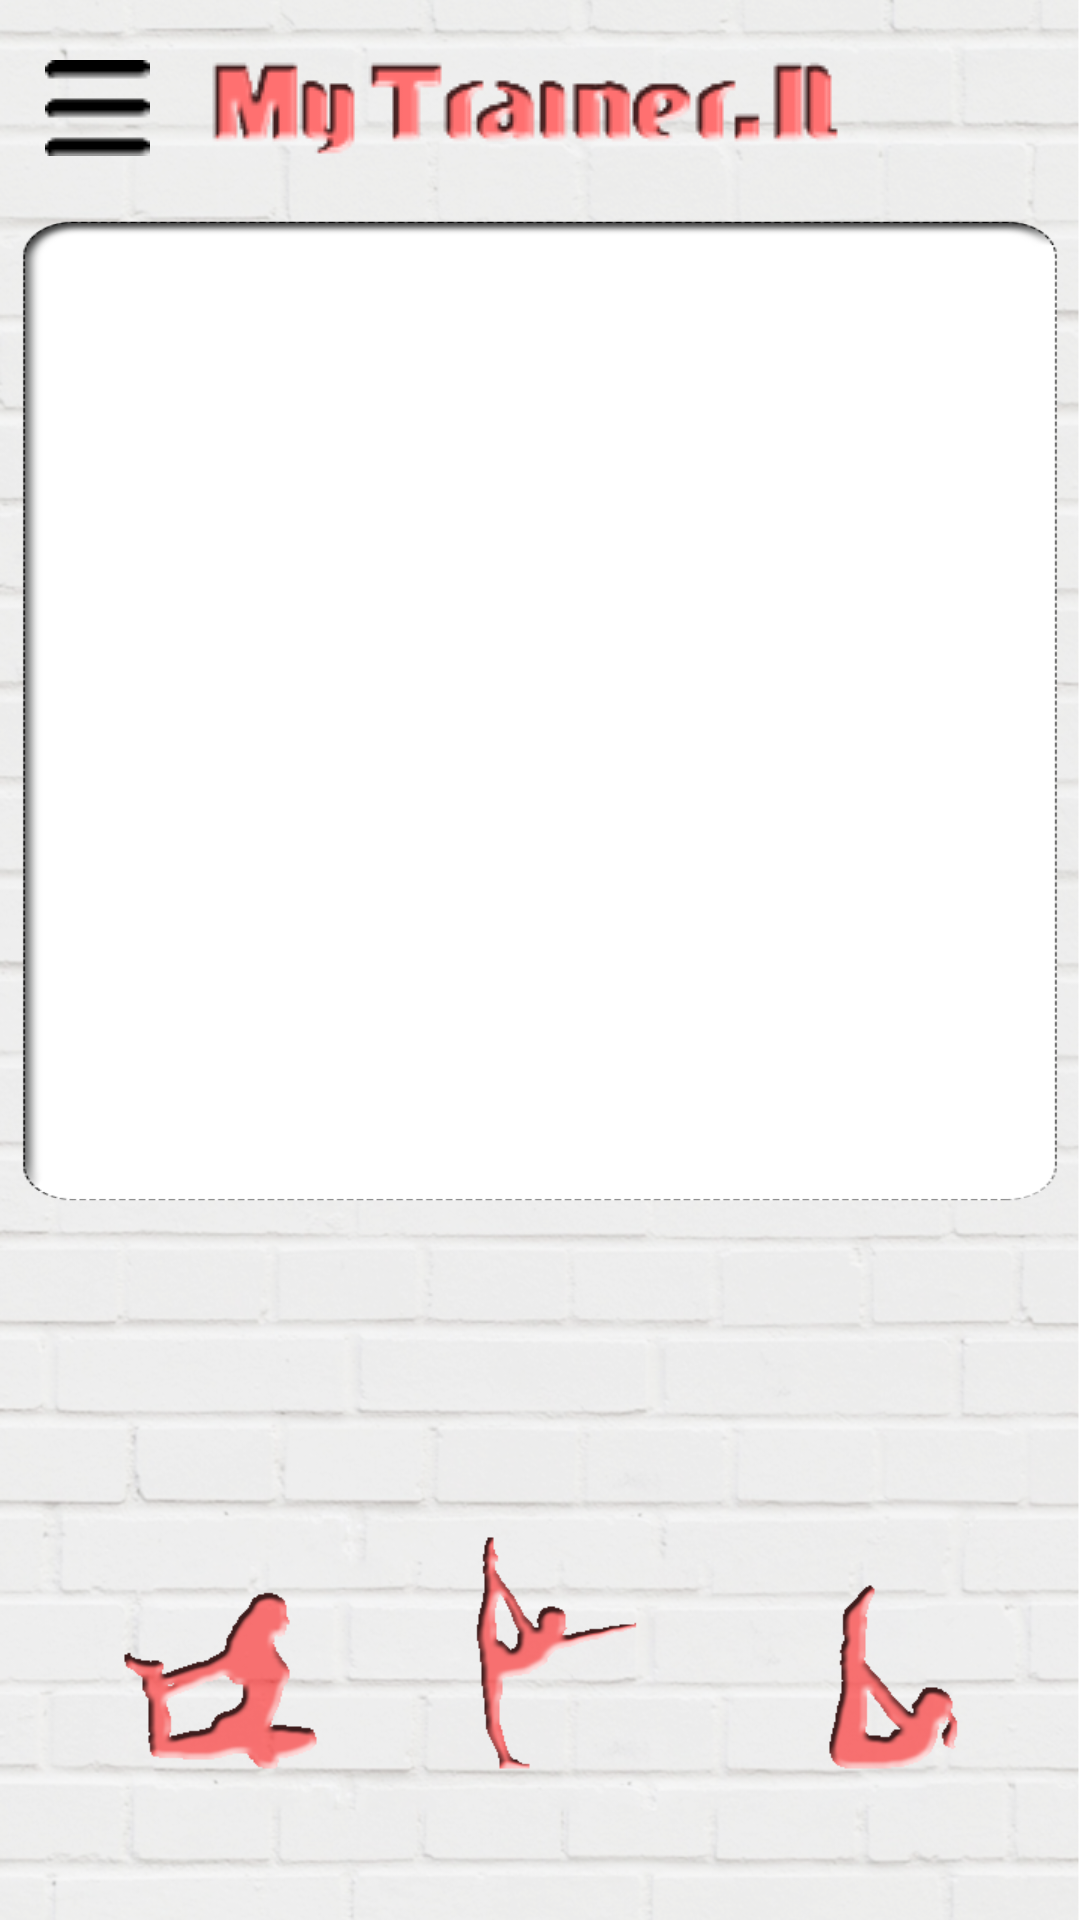

Icon bounding boxes for this 1080px×1920px phone screenshot, format bbox(x1, y1, x2, y2):
תפריט: bbox(45, 60, 150, 156)
